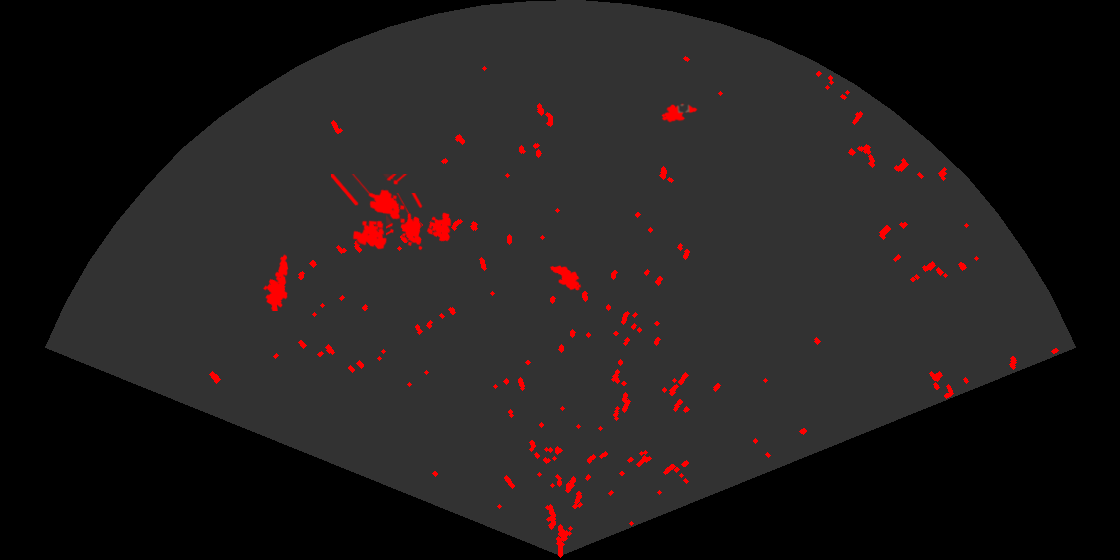AUV: (548, 264, 583, 292), (660, 102, 699, 124)
cage: (331, 174, 409, 251), (386, 193, 453, 252)
frogman: (261, 252, 290, 311)
